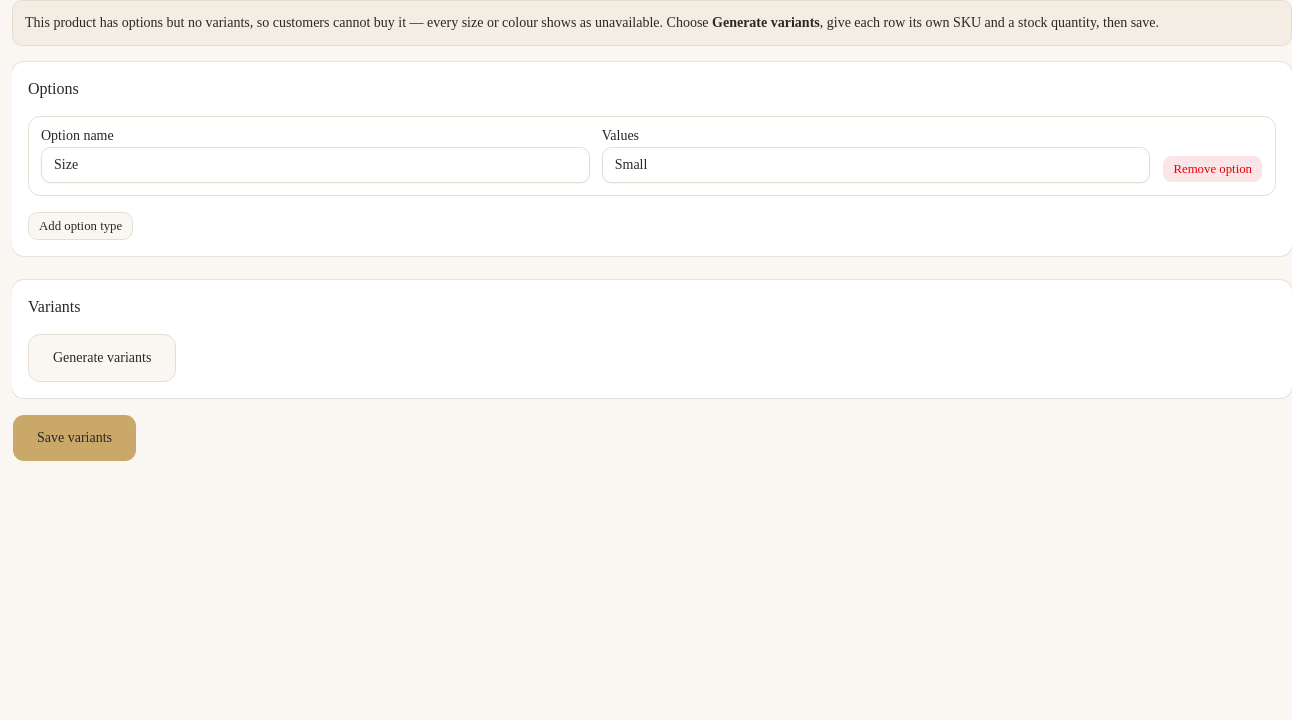
Scenario: VariantStructurePanel — explaining failures › explains a SKU already used by another product
The image size is (1292, 720).
Click the button "Generate variants": (102, 358) [28, 334, 176, 382]
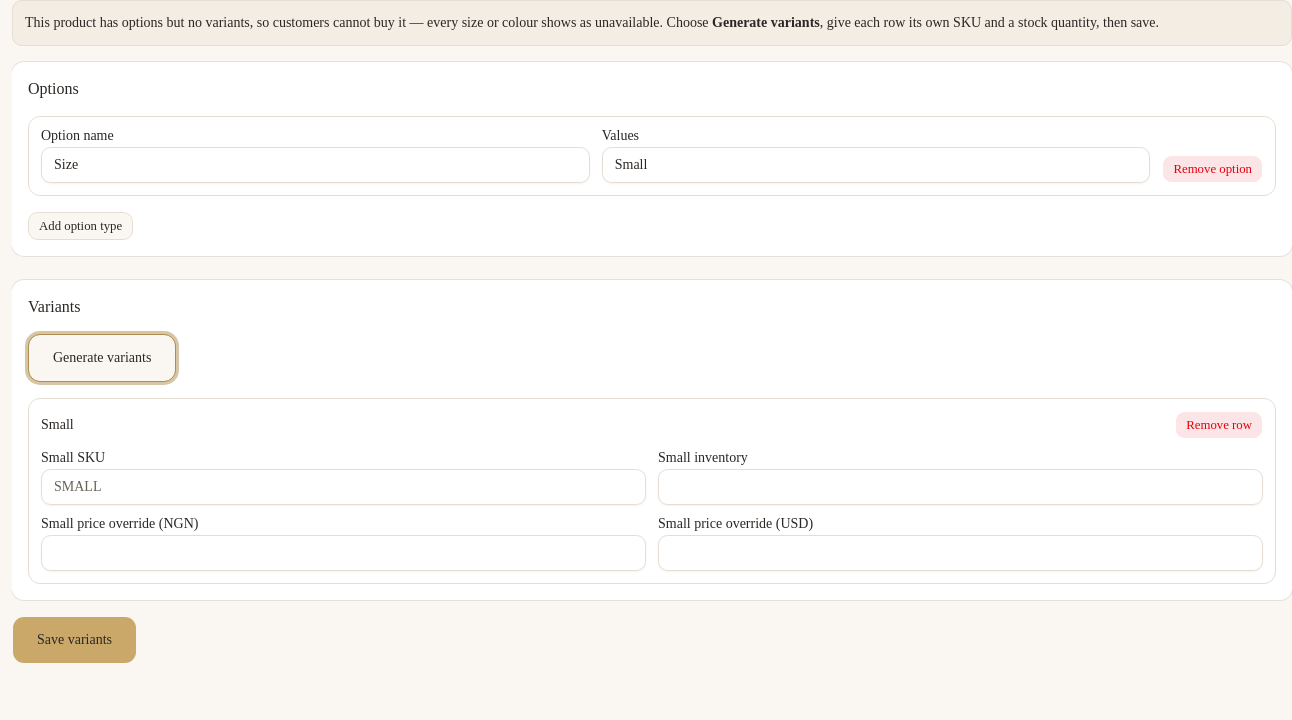
In the field labelled "Small SKU": (344, 487) [41, 469, 646, 505], type "MSE-RNG-002-S"
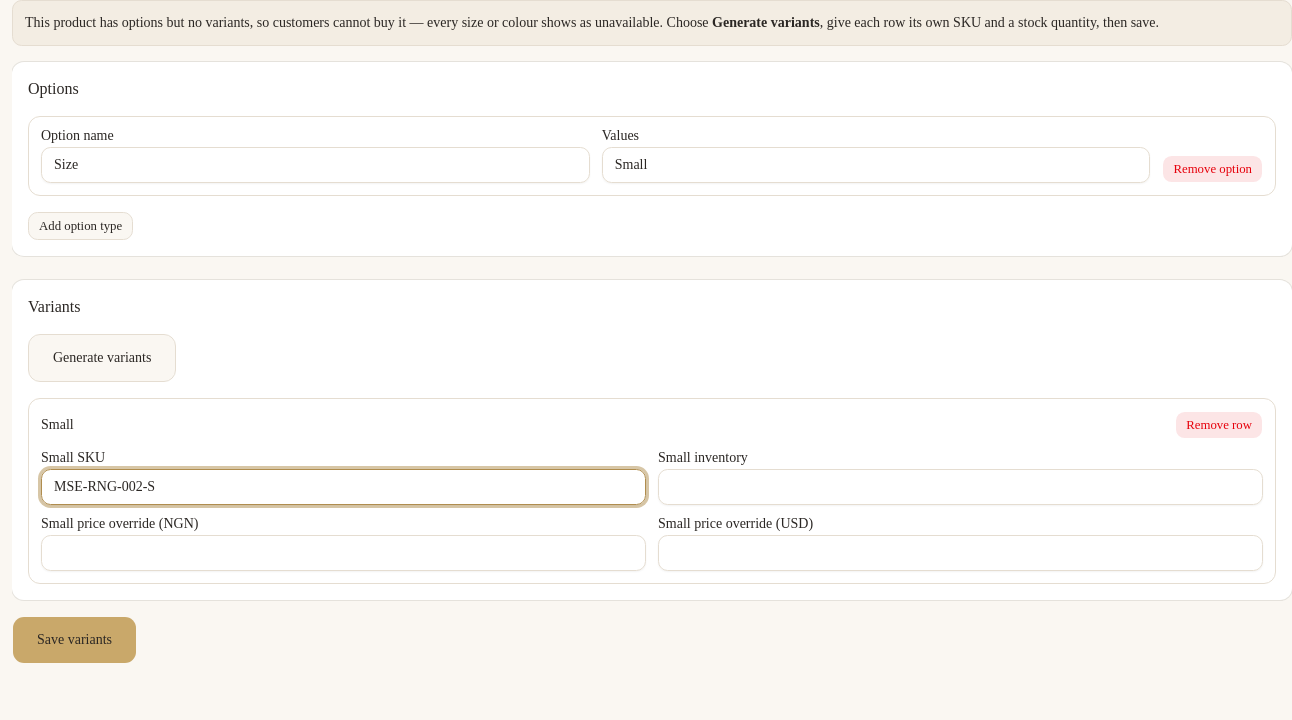
Click the button "Save variants": (74, 640) [12, 616, 137, 664]
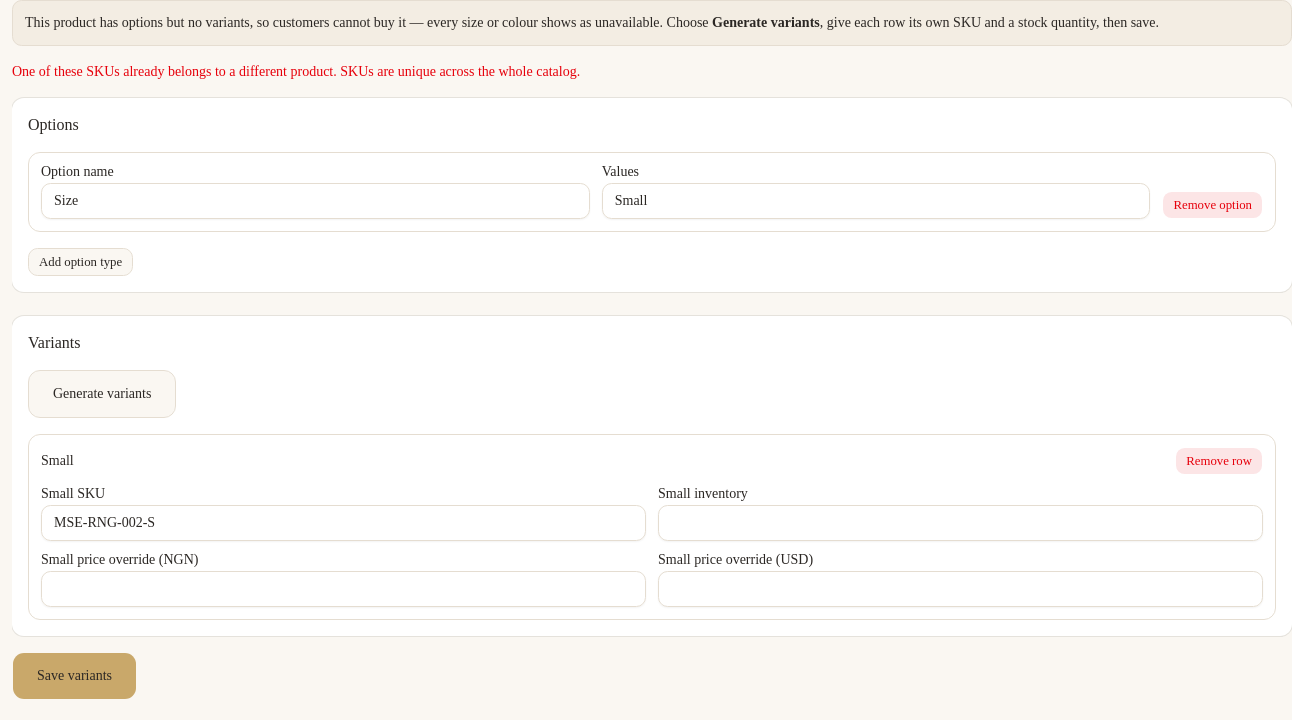
Result: the 2nd message shows "already belongs to a different product" at [12, 64, 580, 79]
